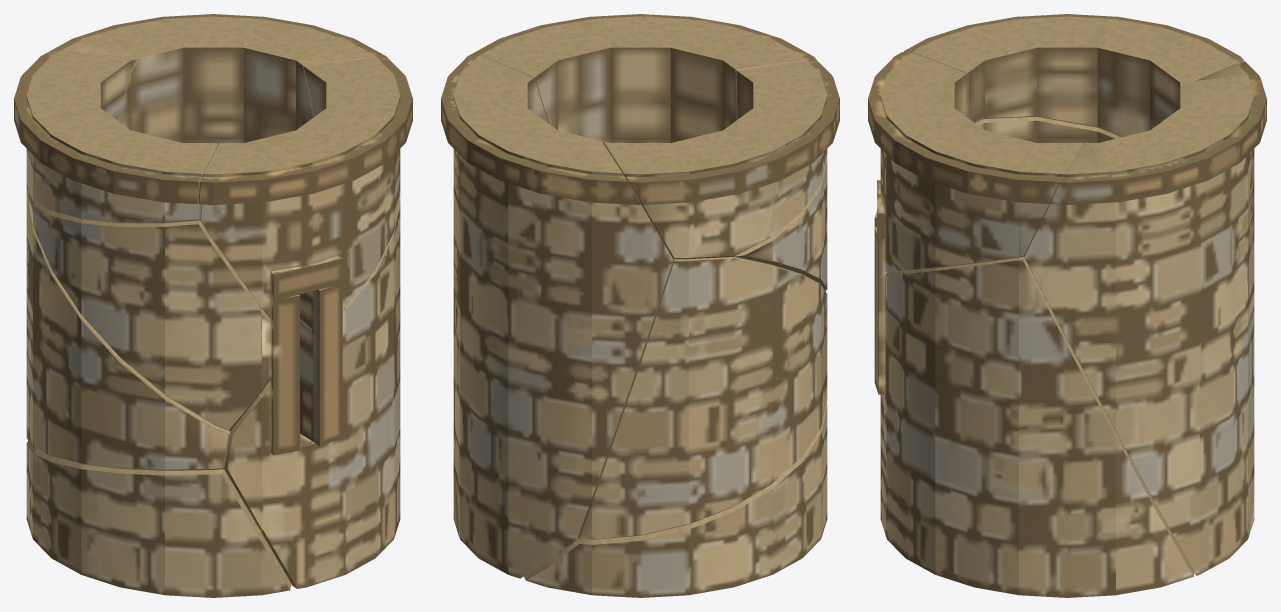
Rendered from Kit_Keep_Turret_Fractured.fbx.
The picture shows the model from 3 angles, left to right: view 1: azimuth 30°, elevation 25°; view 2: azimuth 150°, elevation 25°; view 3: azimuth 270°, elevation 25°; orthographic projection.
Visible parts, largest first — view 1: Kit_Keep_Turret_frag_07, Kit_Keep_Turret_frag_01, Kit_Keep_Turret_frag_06, Kit_Keep_Turret_frag_03, Kit_Keep_Turret_frag_02, Kit_Keep_Turret_frag_04, Kit_Keep_Turret_frag_05; view 2: Kit_Keep_Turret_frag_02, Kit_Keep_Turret_frag_05, Kit_Keep_Turret_frag_01, Kit_Keep_Turret_frag_04, Kit_Keep_Turret_frag_03, Kit_Keep_Turret_frag_06; view 3: Kit_Keep_Turret_frag_02, Kit_Keep_Turret_frag_07, Kit_Keep_Turret_frag_01, Kit_Keep_Turret_frag_04, Kit_Keep_Turret_frag_06.
Part boxes in pixels (<box>): Kit_Keep_Turret_frag_07: <box>224,196,400,588</box>; Kit_Keep_Turret_frag_01: <box>199,57,412,332</box>; Kit_Keep_Turret_frag_06: <box>28,193,271,430</box>; Kit_Keep_Turret_frag_03: <box>26,441,291,597</box>; Kit_Keep_Turret_frag_02: <box>48,14,388,144</box>; Kit_Keep_Turret_frag_04: <box>14,50,217,223</box>; Kit_Keep_Turret_frag_05: <box>26,189,229,470</box>; Kit_Keep_Turret_frag_02: <box>441,54,673,578</box>; Kit_Keep_Turret_frag_05: <box>578,257,827,539</box>; Kit_Keep_Turret_frag_01: <box>473,14,817,142</box>; Kit_Keep_Turret_frag_04: <box>603,61,839,259</box>; Kit_Keep_Turret_frag_03: <box>524,403,827,597</box>; Kit_Keep_Turret_frag_06: <box>733,157,827,290</box>; Kit_Keep_Turret_frag_02: <box>1024,61,1266,575</box>; Kit_Keep_Turret_frag_07: <box>874,211,1194,597</box>; Kit_Keep_Turret_frag_01: <box>868,52,1082,272</box>; Kit_Keep_Turret_frag_04: <box>904,14,1244,137</box>; Kit_Keep_Turret_frag_06: <box>975,116,1120,143</box>.
Size of what is drawn, in the model's own units: 2.56 by 3 by 2.56.
Materials: 2 (2 with a texture image).
